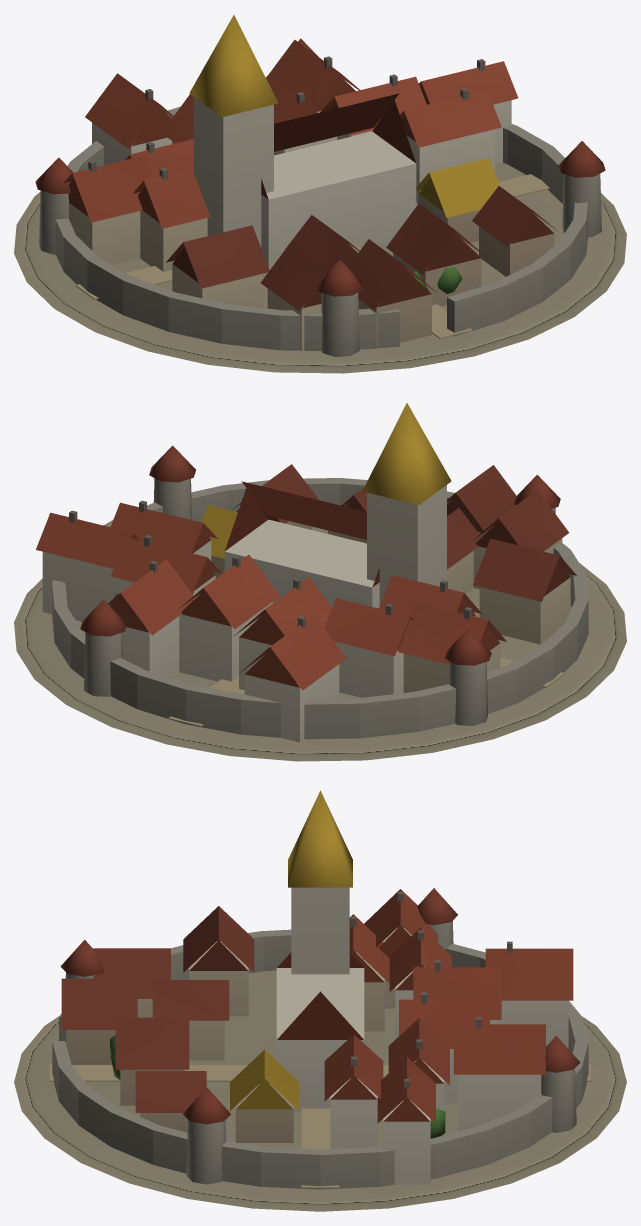
Rendered from settlement_3_3.glb.
3 renders of one model, top to bottom at view 1: azimuth 30°, elevation 25°; view 2: azimuth 150°, elevation 25°; view 3: azimuth 270°, elevation 25°, orthographic.
Visible parts, largest first — view 1: part_0; view 2: part_0; view 3: part_0.
Part boxes in pixels (x1,y1,x2,y2): part_0: (14, 15, 626, 373); part_0: (14, 403, 626, 761); part_0: (14, 790, 626, 1211).
Bounding box in the file's own units: 32.8 × 14.76 × 32.8.
